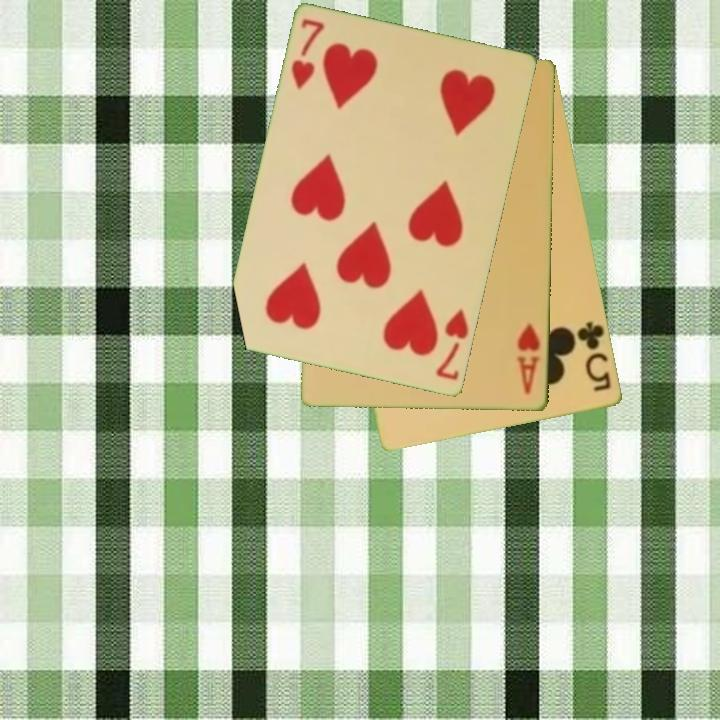5c: (571, 318, 615, 395)
7h: (288, 15, 328, 93), (433, 306, 472, 384)
Ah: (514, 319, 544, 398)
